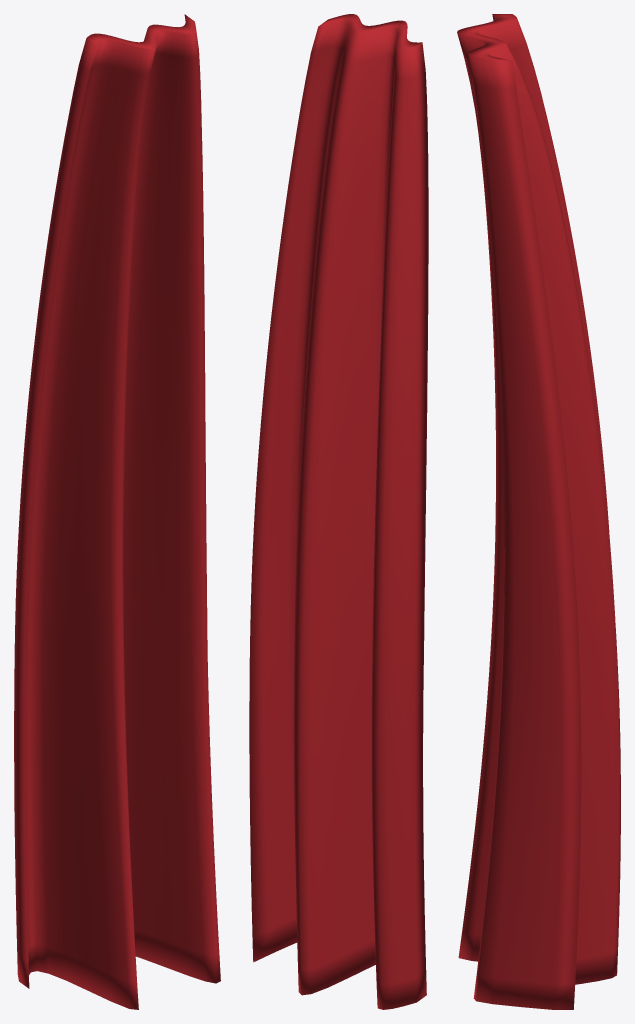
File: TowelHangingSmallRed.glb
The picture shows the model from 3 angles, left to right: view 1: azimuth 30°, elevation 25°; view 2: azimuth 150°, elevation 25°; view 3: azimuth 270°, elevation 25°; orthographic projection. The views are drawn at different scales.
Visible parts, largest first — view 1: HangingSmallTowel; view 2: HangingSmallTowel; view 3: HangingSmallTowel.
Part boxes in pixels (box(x1,y1,x2,y2)): HangingSmallTowel: box(14, 14, 220, 1009); HangingSmallTowel: box(249, 14, 428, 1009); HangingSmallTowel: box(457, 14, 620, 1009).
Size of the model in its own units: 0.052 by 0.28 by 0.0446.
